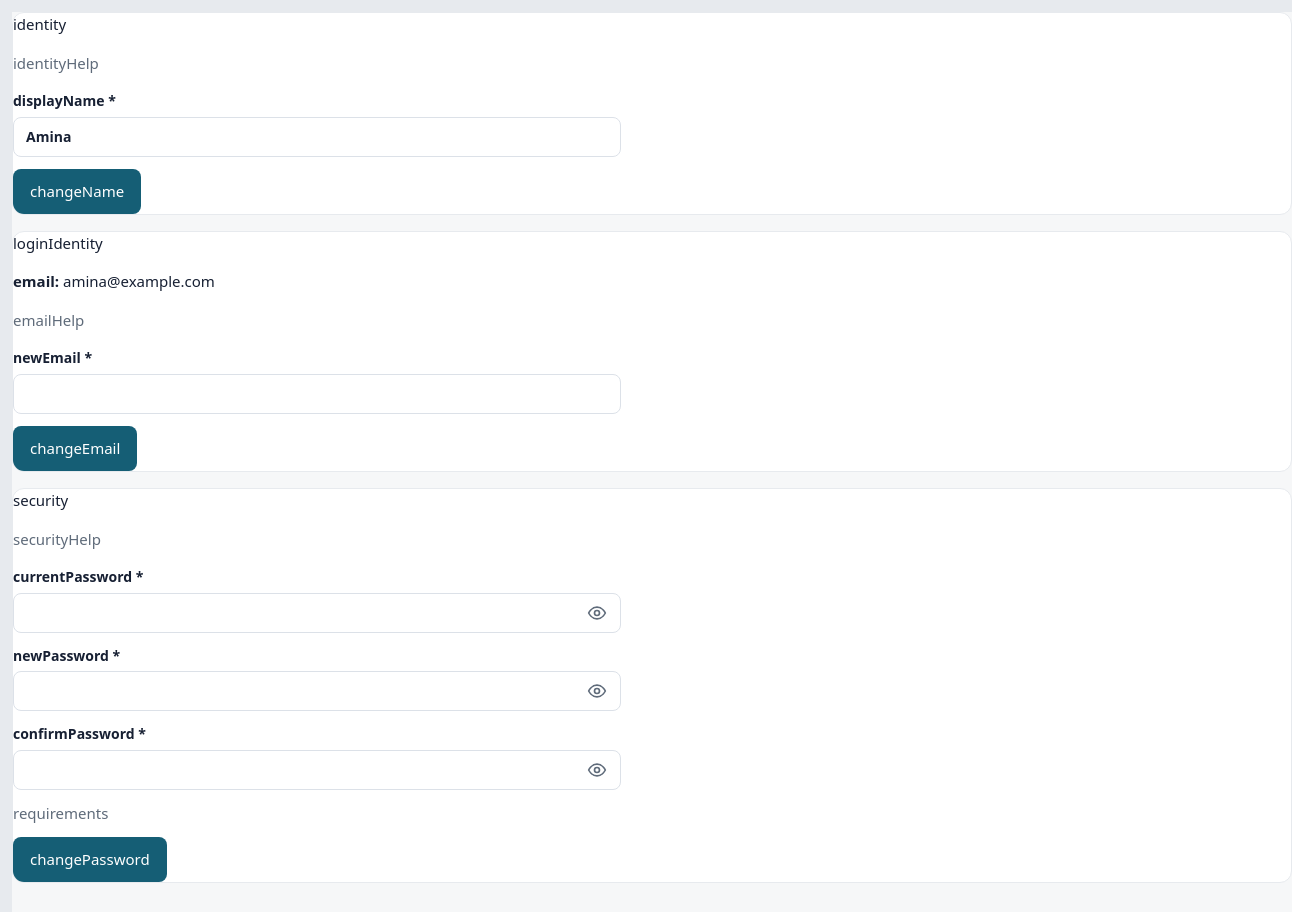
one personal My account screen › toggles only the typed password with accessible eye controls
Type "TypedPassword1" into the password field labelled "currentPassword *" at (317, 613), box [13,593,621,633]
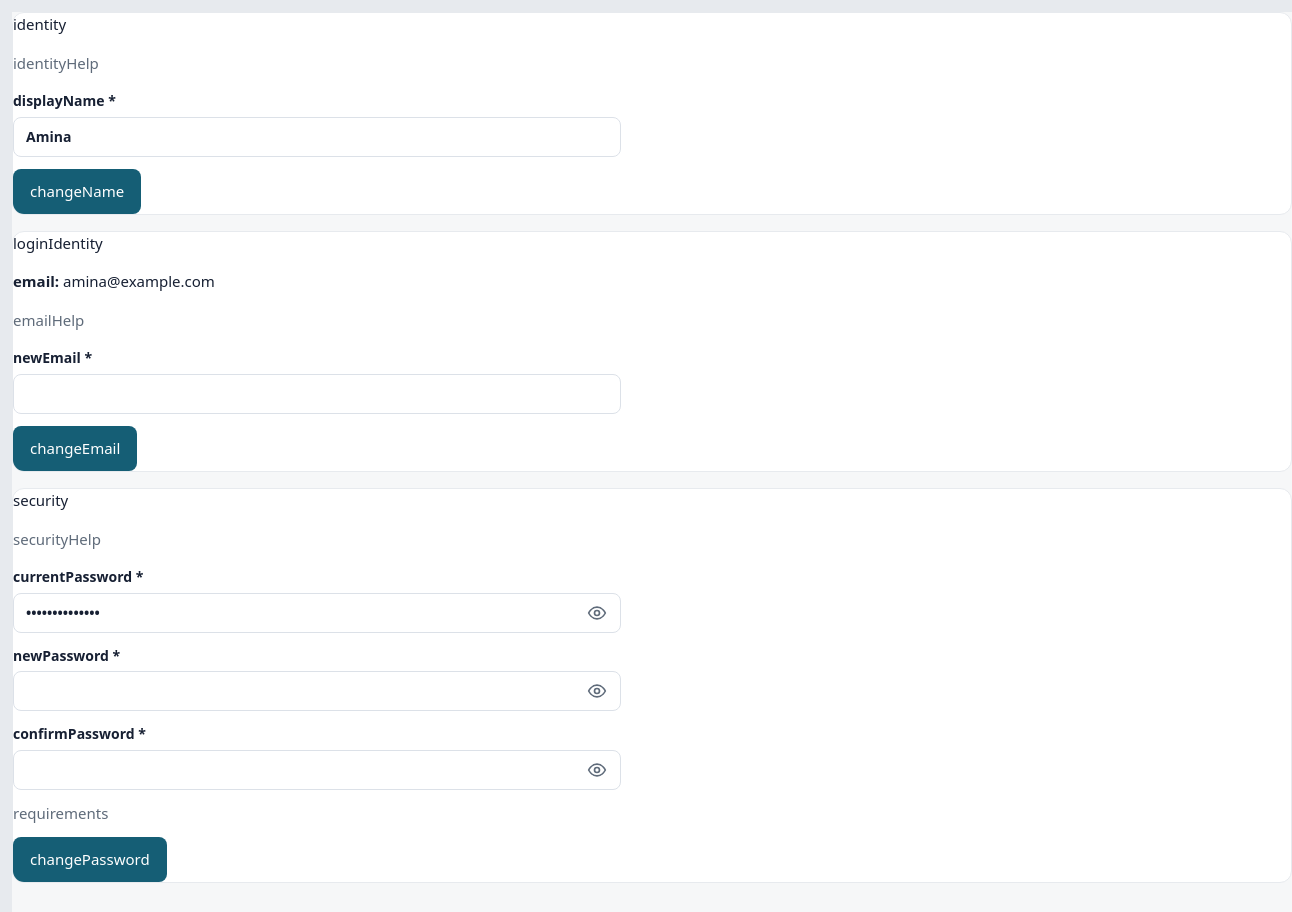
Click the button named "show currentpassword" at (597, 613), box [573,593,621,633]
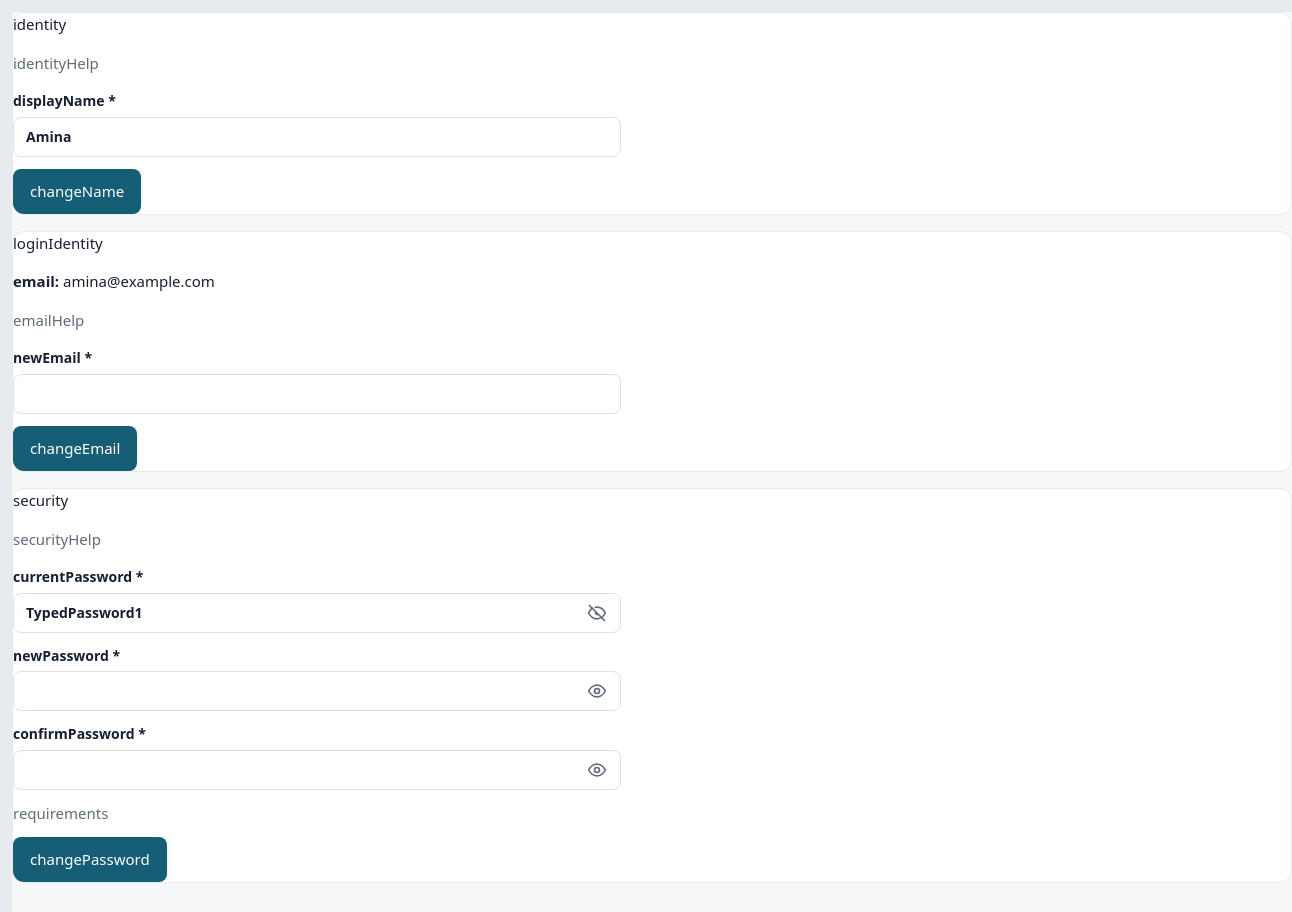
Expected: the field labelled "currentPassword *" shows its text, [13,593,621,633]
Click the button named "hide currentpassword" at (597, 613), box [573,593,621,633]
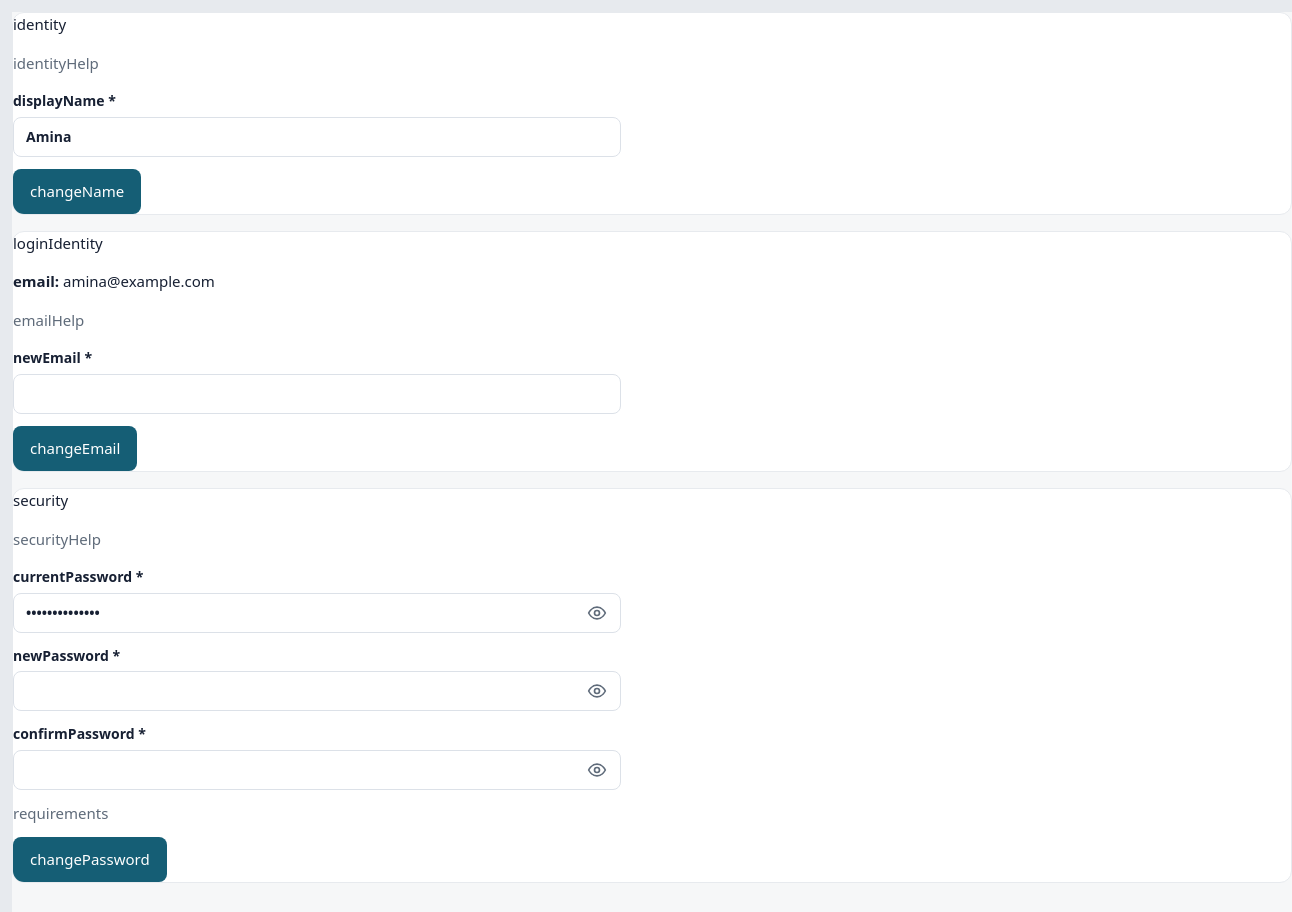
Expected: the password field labelled "currentPassword *" hides its text, [13,593,621,633]
